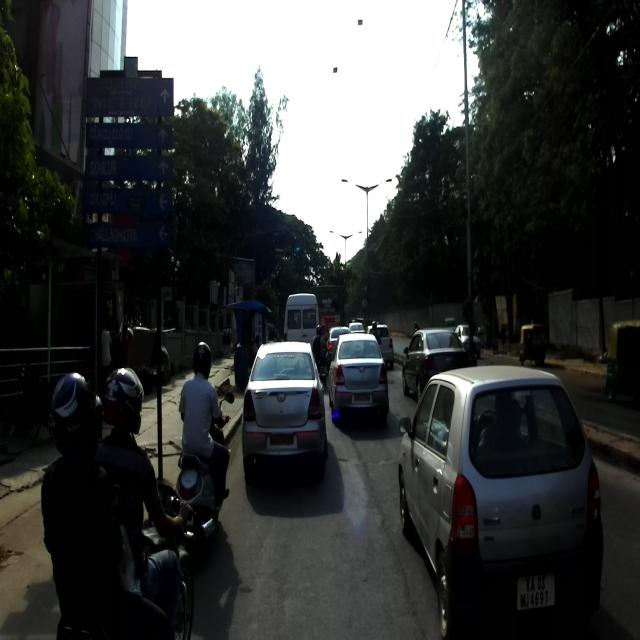autorickshaw: (605, 320, 640, 401), (520, 324, 548, 366)
bus: (309, 284, 344, 337)
car: (397, 366, 604, 640), (240, 339, 328, 478), (325, 333, 389, 430), (401, 327, 467, 402), (366, 322, 394, 368), (452, 324, 481, 358), (326, 326, 350, 357), (348, 322, 364, 334)
mini-bus: (283, 293, 320, 343)
motorcycle: (57, 482, 198, 640), (12, 358, 58, 437), (314, 351, 329, 386)
scooter: (172, 392, 234, 566)
